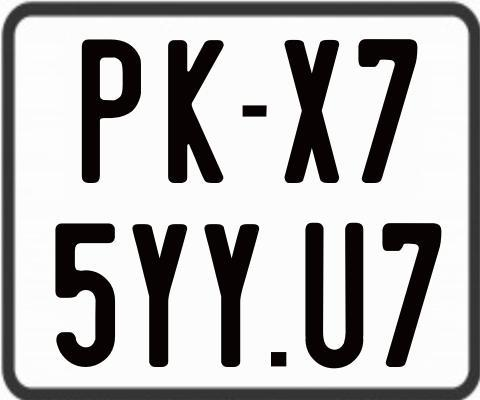5: (55, 222, 121, 367)
7: (382, 223, 447, 370), (355, 39, 415, 184)
K: (168, 37, 226, 180)
P: (79, 36, 141, 184)
U: (305, 220, 363, 369)
X: (283, 38, 339, 185)
Y: (204, 221, 265, 368), (131, 221, 191, 368)
